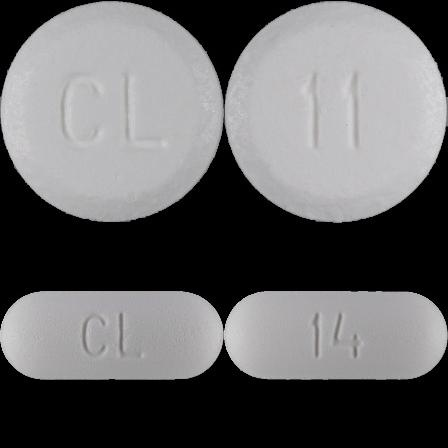43199-011: (0, 0, 224, 224)
